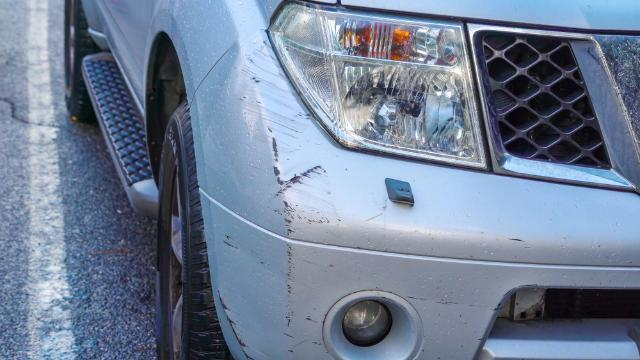scratch: (217, 39, 339, 360)
